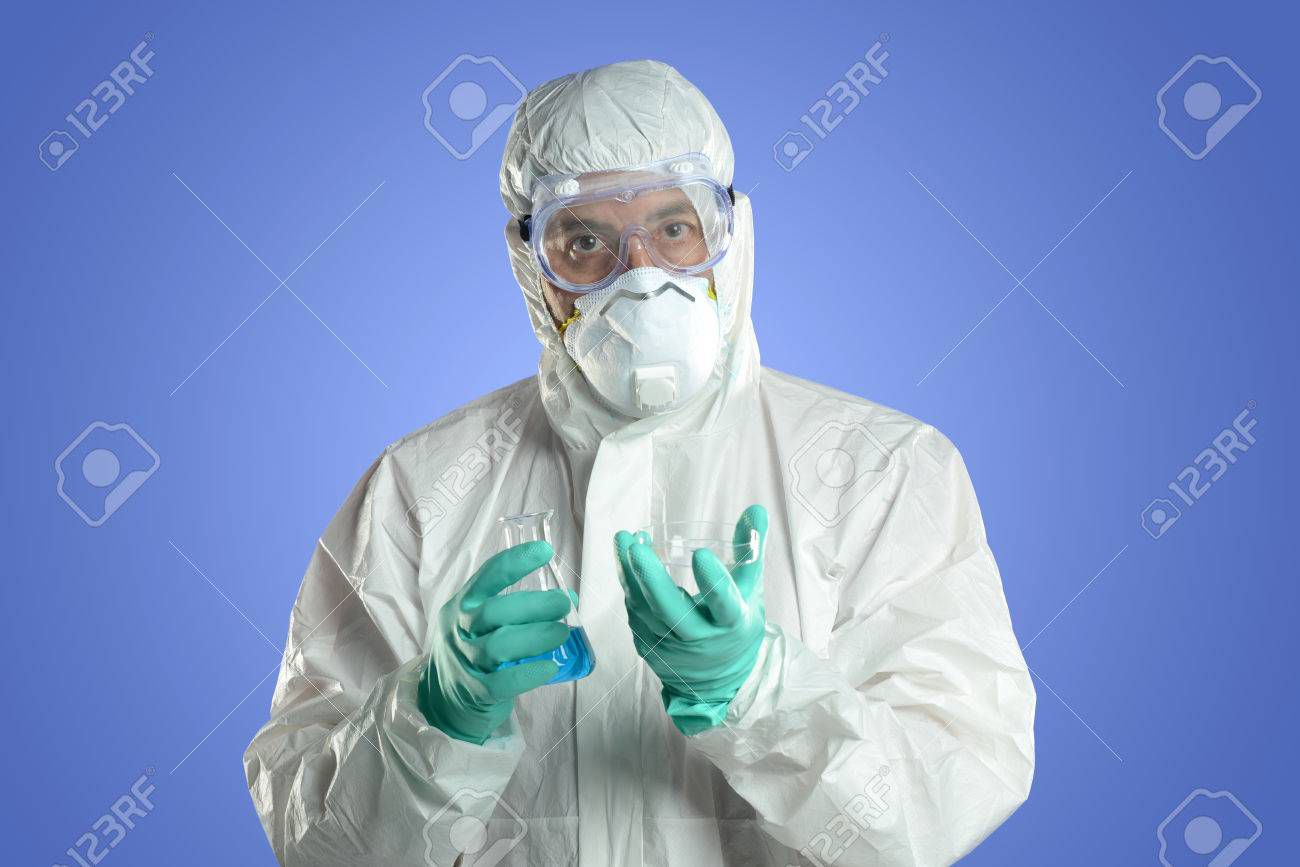Coverall: (240, 63, 1038, 858)
Gloves: (615, 506, 764, 734), (418, 544, 578, 742)
Goggles: (524, 155, 750, 292)
with_mask: (559, 232, 727, 415)
